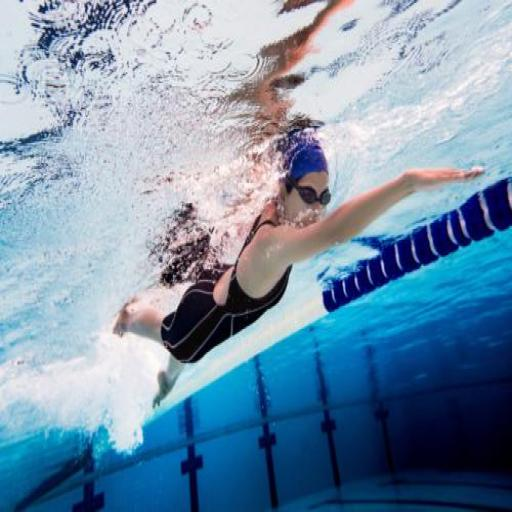swimming: (110, 124, 486, 410)
